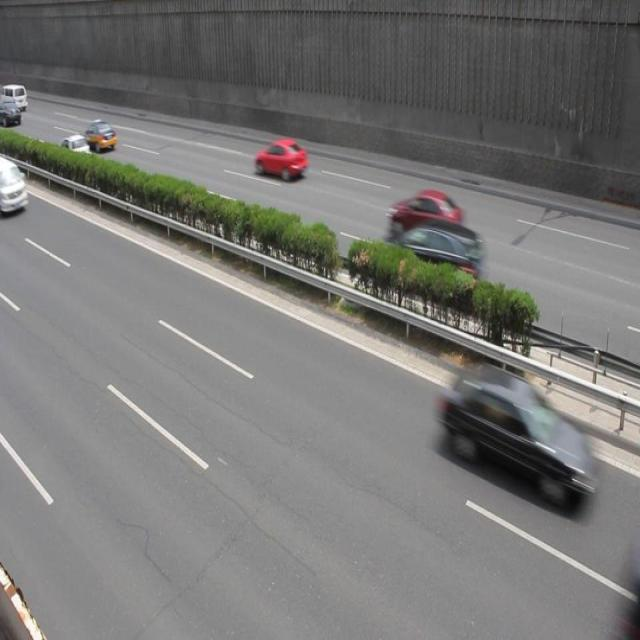car: (440, 364, 577, 499), (380, 221, 485, 300), (387, 190, 464, 240), (254, 138, 308, 180), (82, 121, 117, 153), (57, 135, 91, 164)
